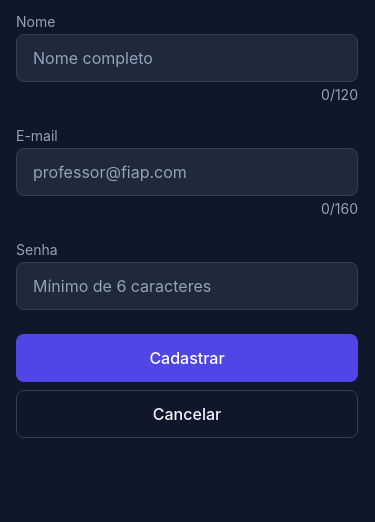
criação › mostra o 409 de e-mail já cadastrado
In the field labelled "Nome": (187, 58) [16,34,358,82], type "Carla Dias"
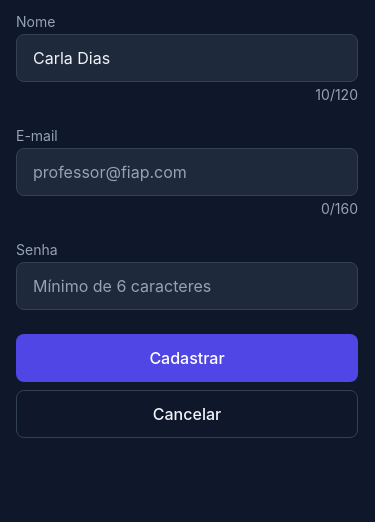
In the field named "E-mail": (187, 172) [16,148,358,196], type "admin@fiap.com"
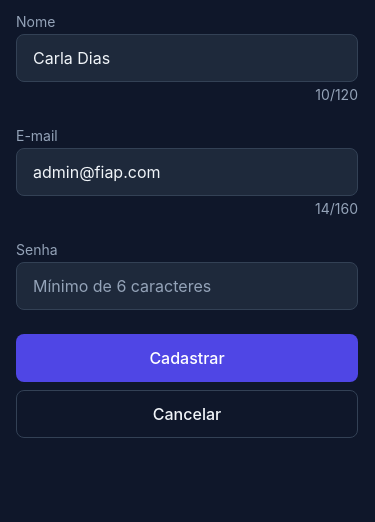
In the password field named "Senha": (187, 286) [16,262,358,310], type "senha123"
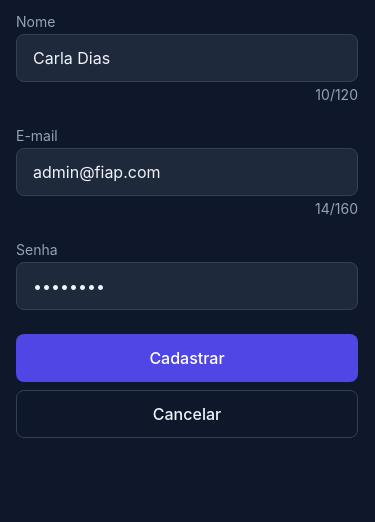
Click the button "Cadastrar": (187, 358) [16,334,358,382]
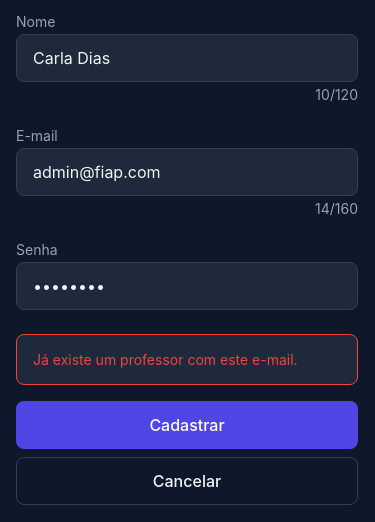
Expected: the text "Já existe um professor com este e-mail." is shown, [33,351,341,368]
